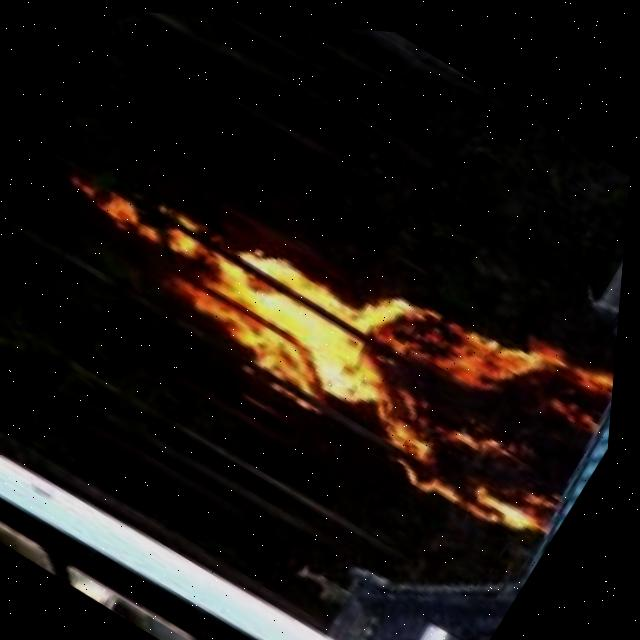Fire: (38, 96, 634, 557)
